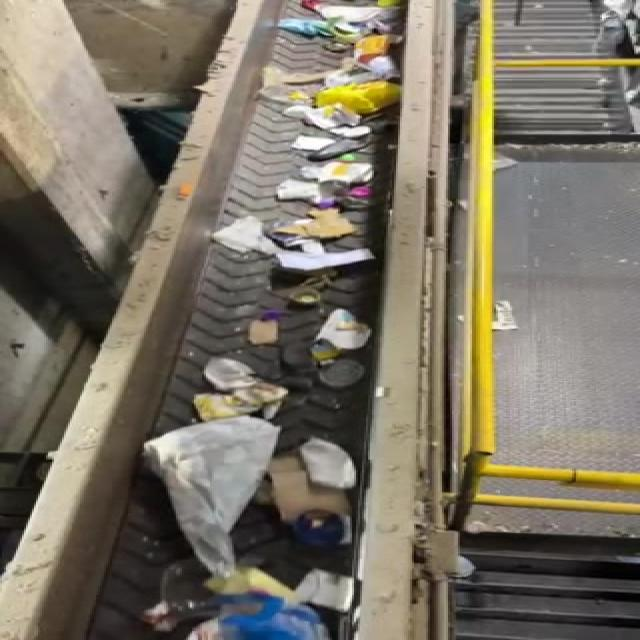metal: (0, 0, 638, 639)
paper: (142, 407, 264, 573), (283, 424, 369, 495), (302, 562, 372, 616), (310, 298, 377, 349), (223, 299, 295, 339)
pp: (182, 344, 268, 388), (312, 357, 382, 399)
